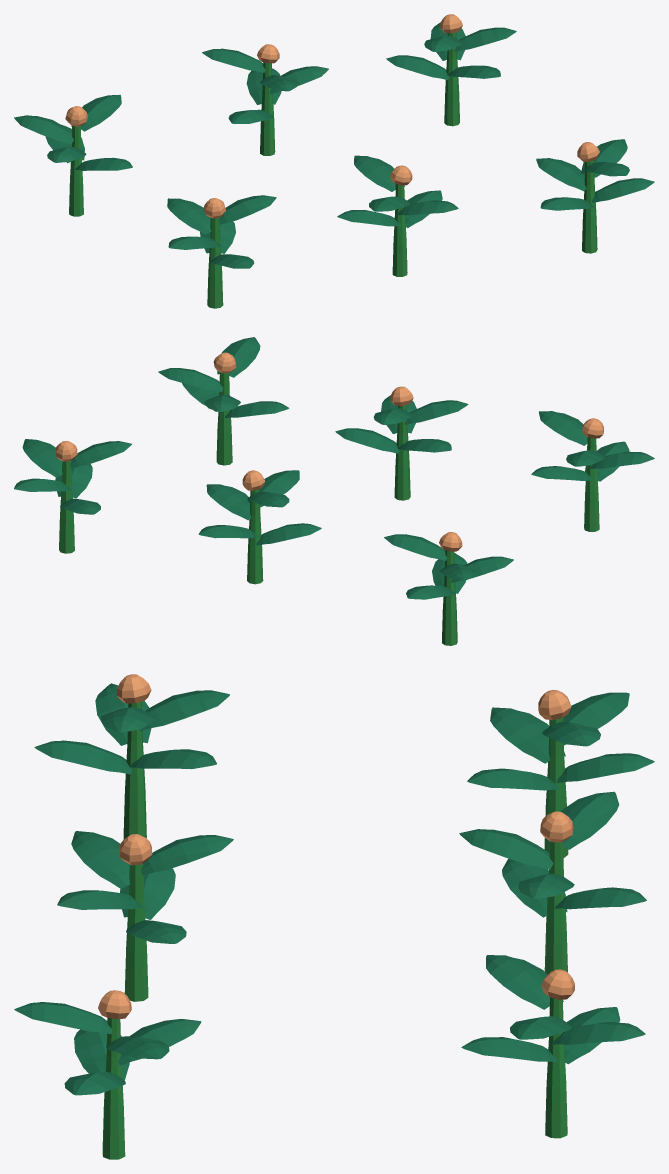
The model's file is kleine plantjes.fbx.
3 renders of one model, top to bottom at view 1: azimuth 30°, elevation 25°; view 2: azimuth 150°, elevation 25°; view 3: azimuth 270°, elevation 25°, orthographic. The views are drawn at different scales.
Visible parts, largest first — view 1: Plane.032, Plane.034, Plane.033, Plane.021, Plane.023, Plane.022; view 2: Plane.022, Plane.023, Plane.034, Plane.032, Plane.033, Plane.021; view 3: Plane.033, Plane.022, Plane.023, Plane.021, Plane.034, Plane.032.
Boxes of the visible parts, box(x1,y1,x2,y2) form: Plane.032: box(536, 139, 654, 253); Plane.034: box(167, 195, 276, 308); Plane.033: box(337, 155, 458, 276); Plane.021: box(14, 94, 132, 216); Plane.023: box(386, 14, 516, 126); Plane.022: box(202, 44, 328, 155); Plane.022: box(198, 470, 321, 584); Plane.023: box(14, 439, 131, 553); Plane.034: box(531, 411, 654, 531); Plane.032: box(158, 337, 289, 465); Plane.033: box(335, 386, 468, 500); Plane.021: box(384, 532, 513, 645); Plane.033: box(57, 831, 233, 1001); Plane.022: box(459, 791, 646, 974); Plane.023: box(461, 955, 645, 1138); Plane.021: box(467, 689, 654, 857); Plane.034: box(34, 674, 229, 839); Plane.032: box(14, 990, 201, 1159).
Bounding box in the file's own units: 1.9 × 0.5289 × 1.44.
